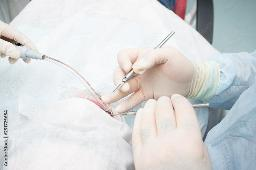scalpel: (106, 32, 176, 98)
